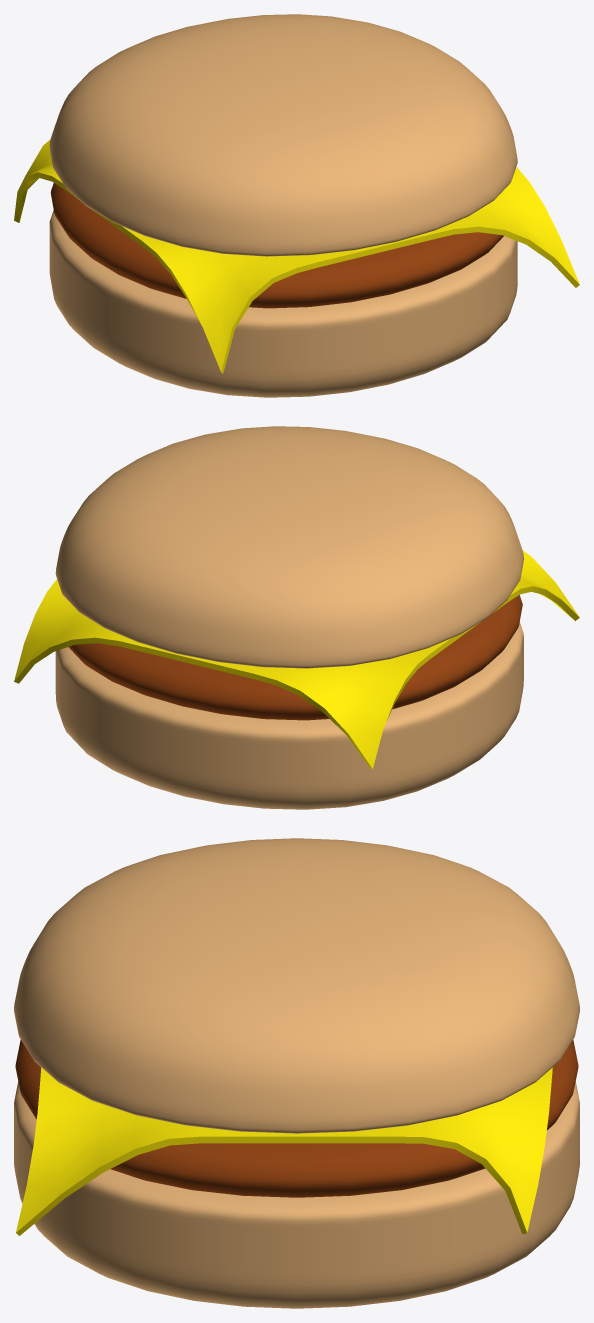
File: hamburger.glb
3 renders of one model, top to bottom at view 1: azimuth 30°, elevation 25°; view 2: azimuth 150°, elevation 25°; view 3: azimuth 270°, elevation 25°, orthographic. The views are drawn at different scales.
Parts seen in each view (by area): view 1: Cube.002, Cube, Plane, Cube.001; view 2: Cube.002, Cube, Plane, Cube.001; view 3: Cube.002, Cube, Plane, Cube.001.
Part boxes in pixels (left/top/right/bottom): Cube.002: left=49, top=14, right=517, bottom=256; Cube: left=49, top=210, right=517, bottom=397; Plane: left=14, top=139, right=579, bottom=373; Cube.001: left=50, top=183, right=503, bottom=308; Cube.002: left=55, top=426, right=523, bottom=668; Cube: left=55, top=622, right=523, bottom=809; Plane: left=14, top=550, right=579, bottom=769; Cube.001: left=68, top=595, right=522, bottom=720; Cube.002: left=14, top=838, right=579, bottom=1133; Cube: left=14, top=1082, right=579, bottom=1308; Plane: left=16, top=1067, right=552, bottom=1235; Cube.001: left=15, top=1039, right=578, bottom=1197.
Size of the model in its own units: 6.1 by 3.82 by 6.1.
